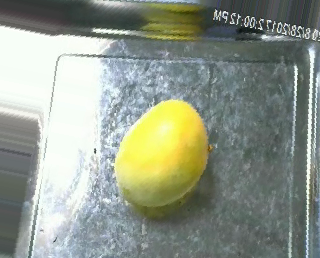Mango: (111, 90, 222, 221)
